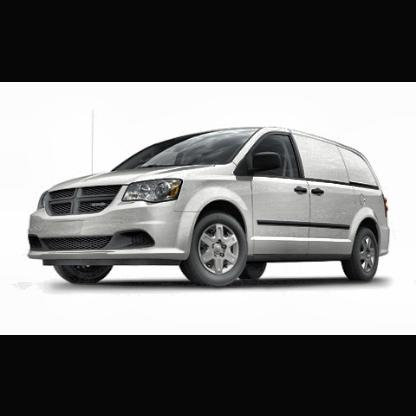Ram C-V Cargo Van Minivan 2012: (28, 127, 393, 289)
